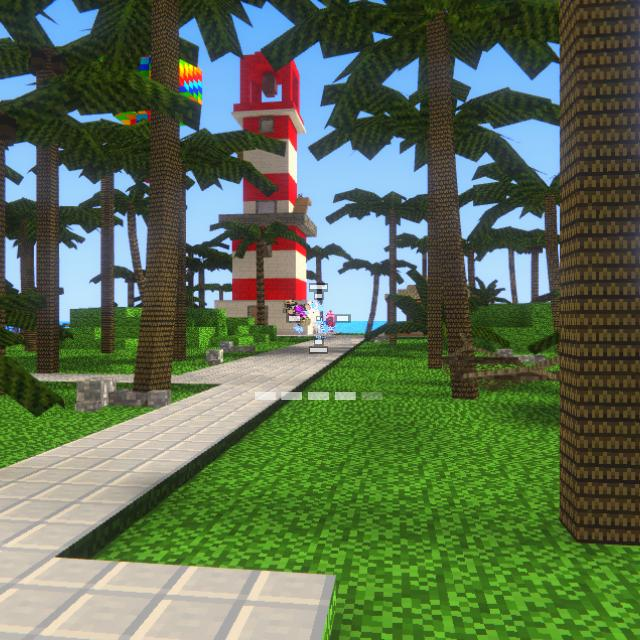Enemy: (295, 298, 306, 318), (324, 316, 333, 332), (328, 318, 336, 334)
